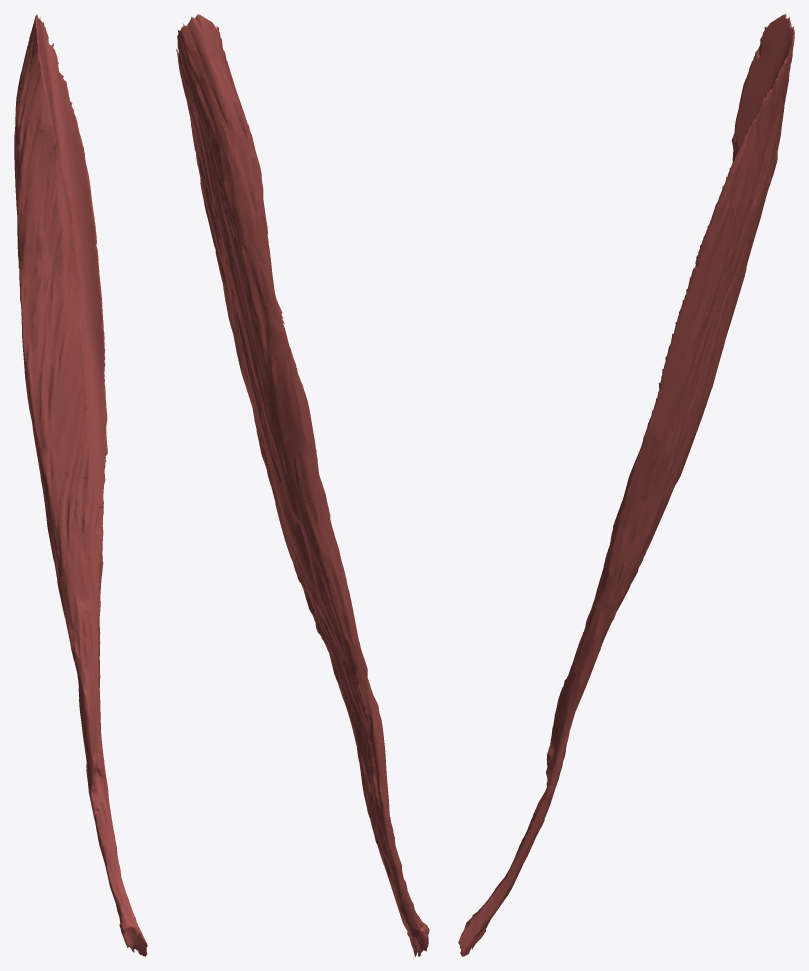
3 renders of one model, left to right at view 1: azimuth 30°, elevation 25°; view 2: azimuth 150°, elevation 25°; view 3: azimuth 270°, elevation 25°, orthographic. The views are drawn at different scales.
Parts seen in each view (by area): view 1: BP47; view 2: BP47; view 3: BP47.
Part boxes in pixels (bbox=[...]): BP47: bbox=[14, 14, 147, 956]; BP47: bbox=[176, 14, 429, 956]; BP47: bbox=[458, 14, 794, 956].
Bounding box in the file's own units: 0.017 × 0.1831 × 0.0582.
